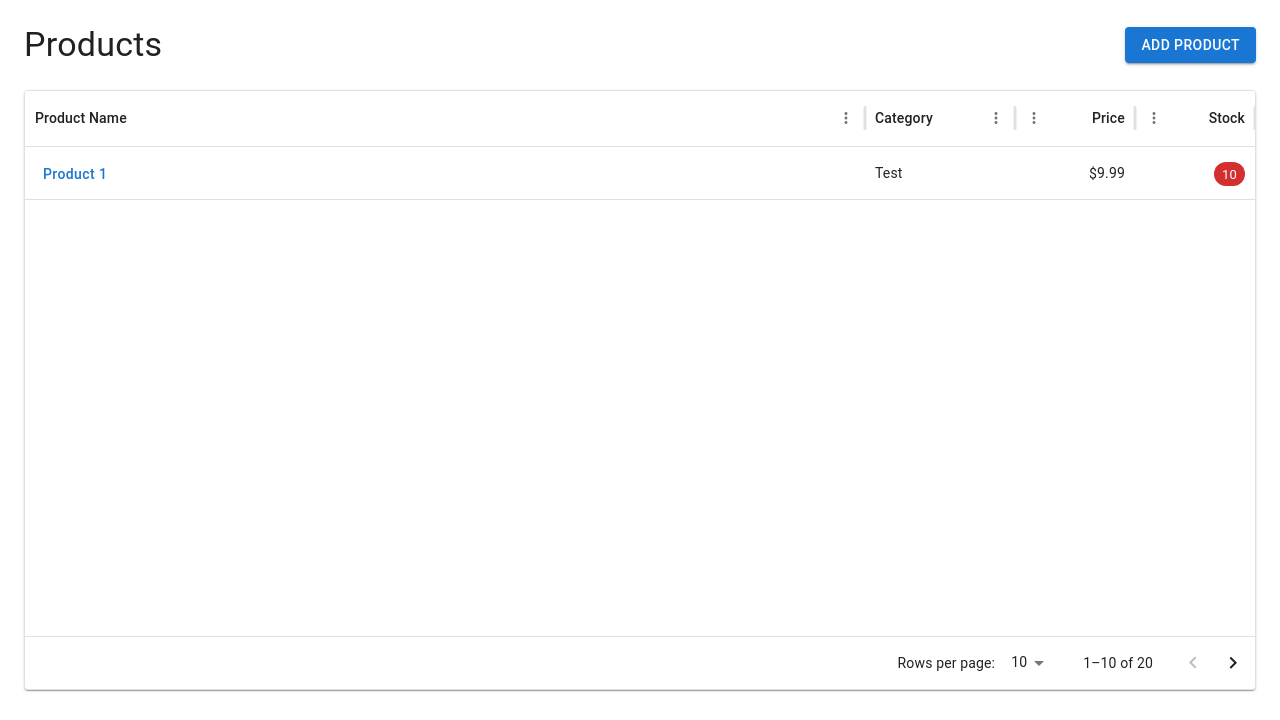
Test: Products Page › handles pagination
Check: the link "Product 1" is shown, box [43,166,107,182]
Click the button named "next page" at (1233, 663), box [1213,643,1253,683]
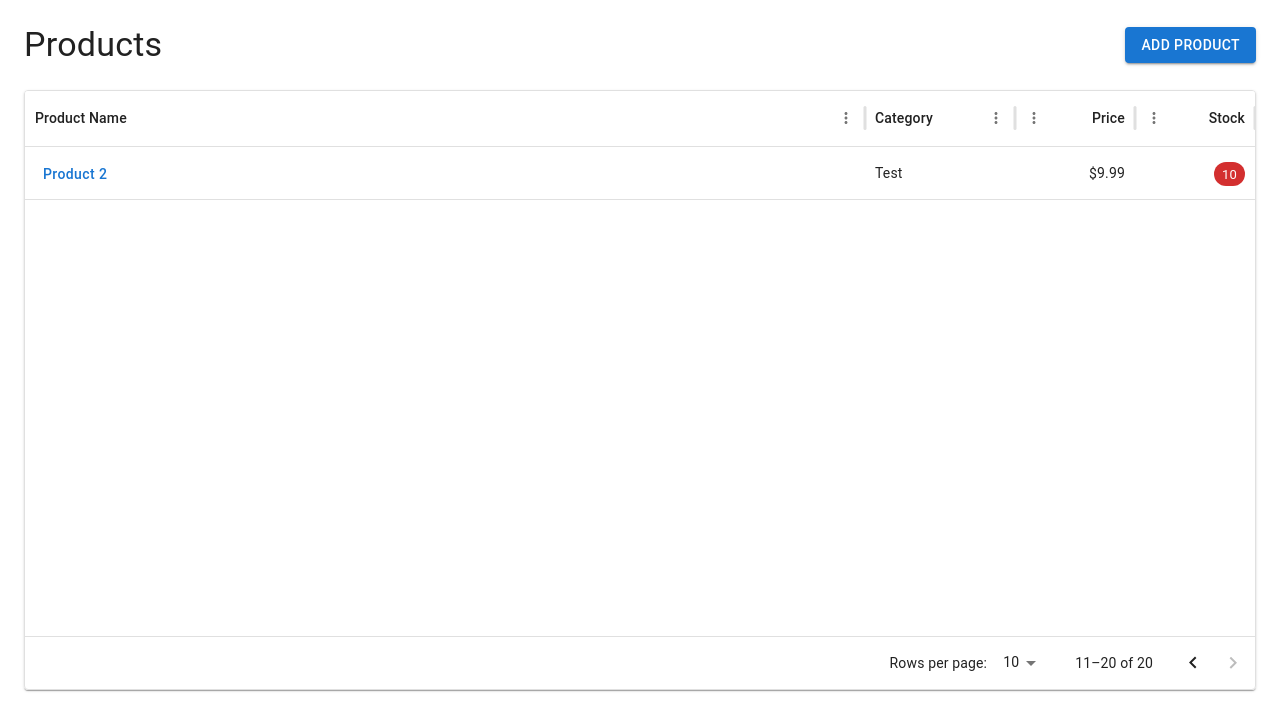
Check: the link "Product 2" is shown, box [43,166,107,182]
